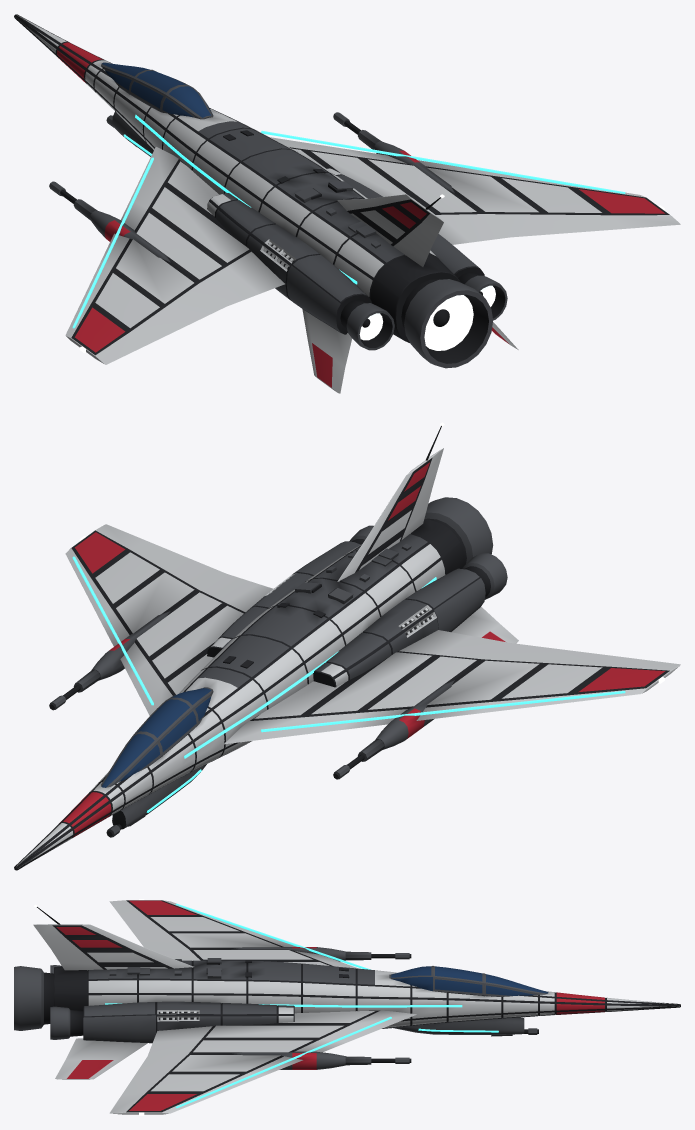
File: ship_lancet.glb
3 renders of one model, top to bottom at view 1: azimuth 30°, elevation 25°; view 2: azimuth 150°, elevation 25°; view 3: azimuth 270°, elevation 25°, orthographic. The views are drawn at different scales.
Parts seen in each view (by area): view 1: ship_lancet_mesh; view 2: ship_lancet_mesh; view 3: ship_lancet_mesh.
Boxes of the visible parts, x1,y1,x2,y2 form: ship_lancet_mesh: [14, 14, 680, 393]; ship_lancet_mesh: [14, 422, 680, 870]; ship_lancet_mesh: [14, 899, 680, 1115].
Bounding box in the file's own units: 13.93 × 4.3 × 18.3.
